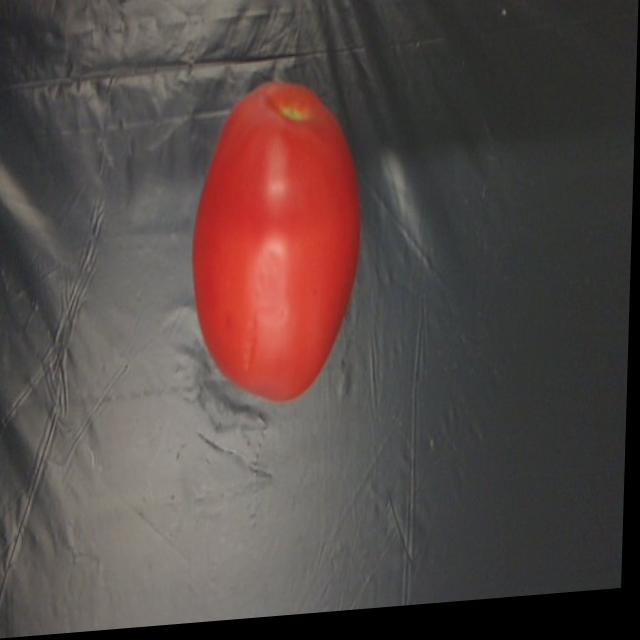kirmizi: (186, 79, 373, 414)
